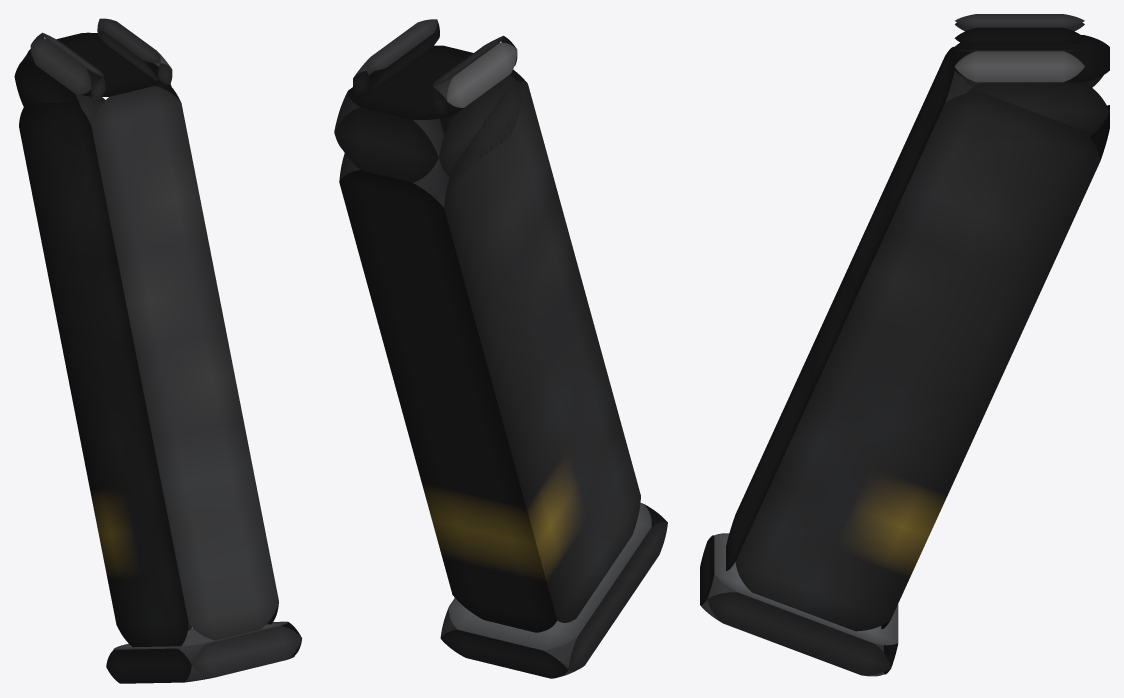
The model's file is udp_9_mag_standard.fbx.
3 renders of one model, left to right at view 1: azimuth 30°, elevation 25°; view 2: azimuth 150°, elevation 25°; view 3: azimuth 270°, elevation 25°, orthographic. The views are drawn at different scales.
Visible parts, largest first — view 1: cube, cube_4, cube_1, cube_2, cube_3; view 2: cube, cube_1, cube_4, cube_2, cube_3; view 3: cube, cube_4, cube_1, cube_3, cube_2.
Boxes of the visible parts, bbox=[...] form: cube: bbox=[19, 86, 278, 647]; cube_4: bbox=[106, 621, 302, 683]; cube_1: bbox=[14, 32, 173, 146]; cube_2: bbox=[30, 32, 105, 103]; cube_3: bbox=[97, 18, 172, 84]; cube: bbox=[339, 69, 640, 632]; cube_1: bbox=[334, 45, 522, 182]; cube_4: bbox=[440, 503, 667, 678]; cube_2: bbox=[430, 35, 517, 114]; cube_3: bbox=[353, 19, 439, 94]; cube: bbox=[726, 46, 1109, 631]; cube_4: bbox=[700, 533, 898, 676]; cube_1: bbox=[954, 35, 1109, 140]; cube_3: bbox=[954, 50, 1084, 82]; cube_2: bbox=[954, 14, 1084, 43].
Bounding box in the file's own units: 8.59 × 43.1 × 25.71.
1 material, 1 textured.
